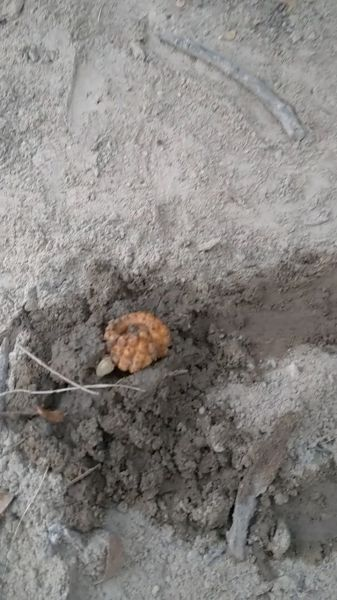eggs: (101, 309, 176, 377)
